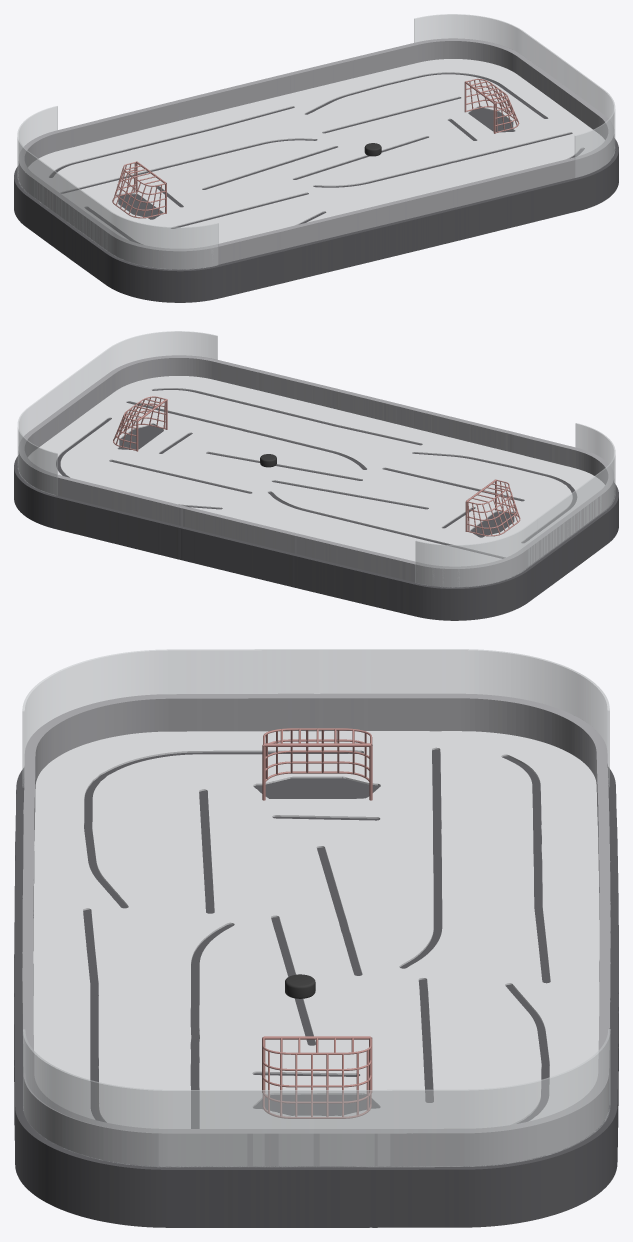
Rendered from static_hardware.glb.
3 renders of one model, top to bottom at view 1: azimuth 30°, elevation 25°; view 2: azimuth 150°, elevation 25°; view 3: azimuth 270°, elevation 25°, orthographic. The views are drawn at different scales.
Parts seen in each view (by area): view 1: Ice, InnerBoards, HousingBase, EndScreen.W, EndScreen.E, HousingRim, Goal.W, Goal.E; view 2: Ice, InnerBoards, HousingBase, EndScreen.W, EndScreen.E, HousingRim, Goal.W, Goal.E; view 3: Ice, HousingBase, InnerBoards, EndScreen.E, EndScreen.W, HousingRim, Goal.E, Goal.W.
Part boxes in pixels (<box>): Ice: <box>28,59,604,248</box>; InnerBoards: <box>18,38,614,269</box>; HousingBase: <box>14,73,618,302</box>; EndScreen.W: <box>17,106,218,269</box>; EndScreen.E: <box>414,14,615,177</box>; HousingRim: <box>14,138,618,271</box>; Goal.W: <box>112,161,166,218</box>; Goal.E: <box>464,78,519,133</box>; Ice: <box>28,376,604,566</box>; InnerBoards: <box>18,355,614,586</box>; HousingBase: <box>14,389,618,620</box>; EndScreen.W: <box>415,423,615,587</box>; EndScreen.E: <box>17,331,217,495</box>; HousingRim: <box>14,455,618,589</box>; Goal.W: <box>465,479,520,536</box>; Goal.E: <box>113,396,167,451</box>; Ice: <box>33,731,599,1128</box>; HousingBase: <box>14,749,618,1227</box>; InnerBoards: <box>22,693,610,1166</box>; EndScreen.E: <box>23,1029,610,1167</box>; EndScreen.W: <box>22,649,609,787</box>; HousingRim: <box>14,767,618,1171</box>; Goal.E: <box>262,1036,372,1118</box>; Goal.W: <box>262,728,372,800</box>.
Bounding box in the file's own units: 0.8774 × 0.123 × 0.5018.
